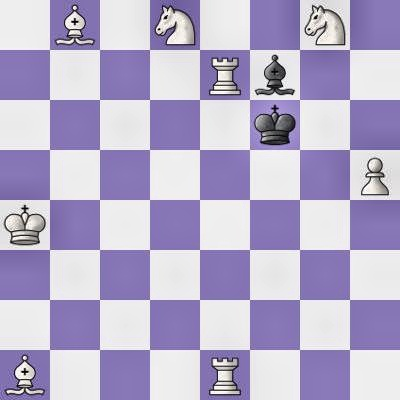black-bishop: (250, 50, 300, 100)
black-king: (250, 100, 300, 150)
white-bishop: (50, 0, 100, 50), (0, 350, 50, 400)
white-king: (0, 200, 50, 250)
white-knight: (150, 0, 200, 50), (300, 0, 350, 50)
white-pawn: (350, 150, 400, 200)
white-rook: (200, 50, 250, 100), (200, 350, 250, 400)
